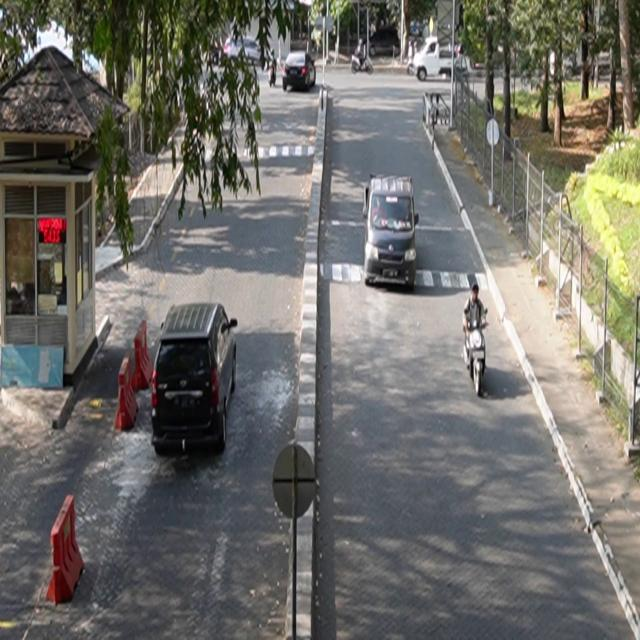car: (152, 302, 238, 455), (363, 173, 420, 290), (283, 52, 317, 93)
